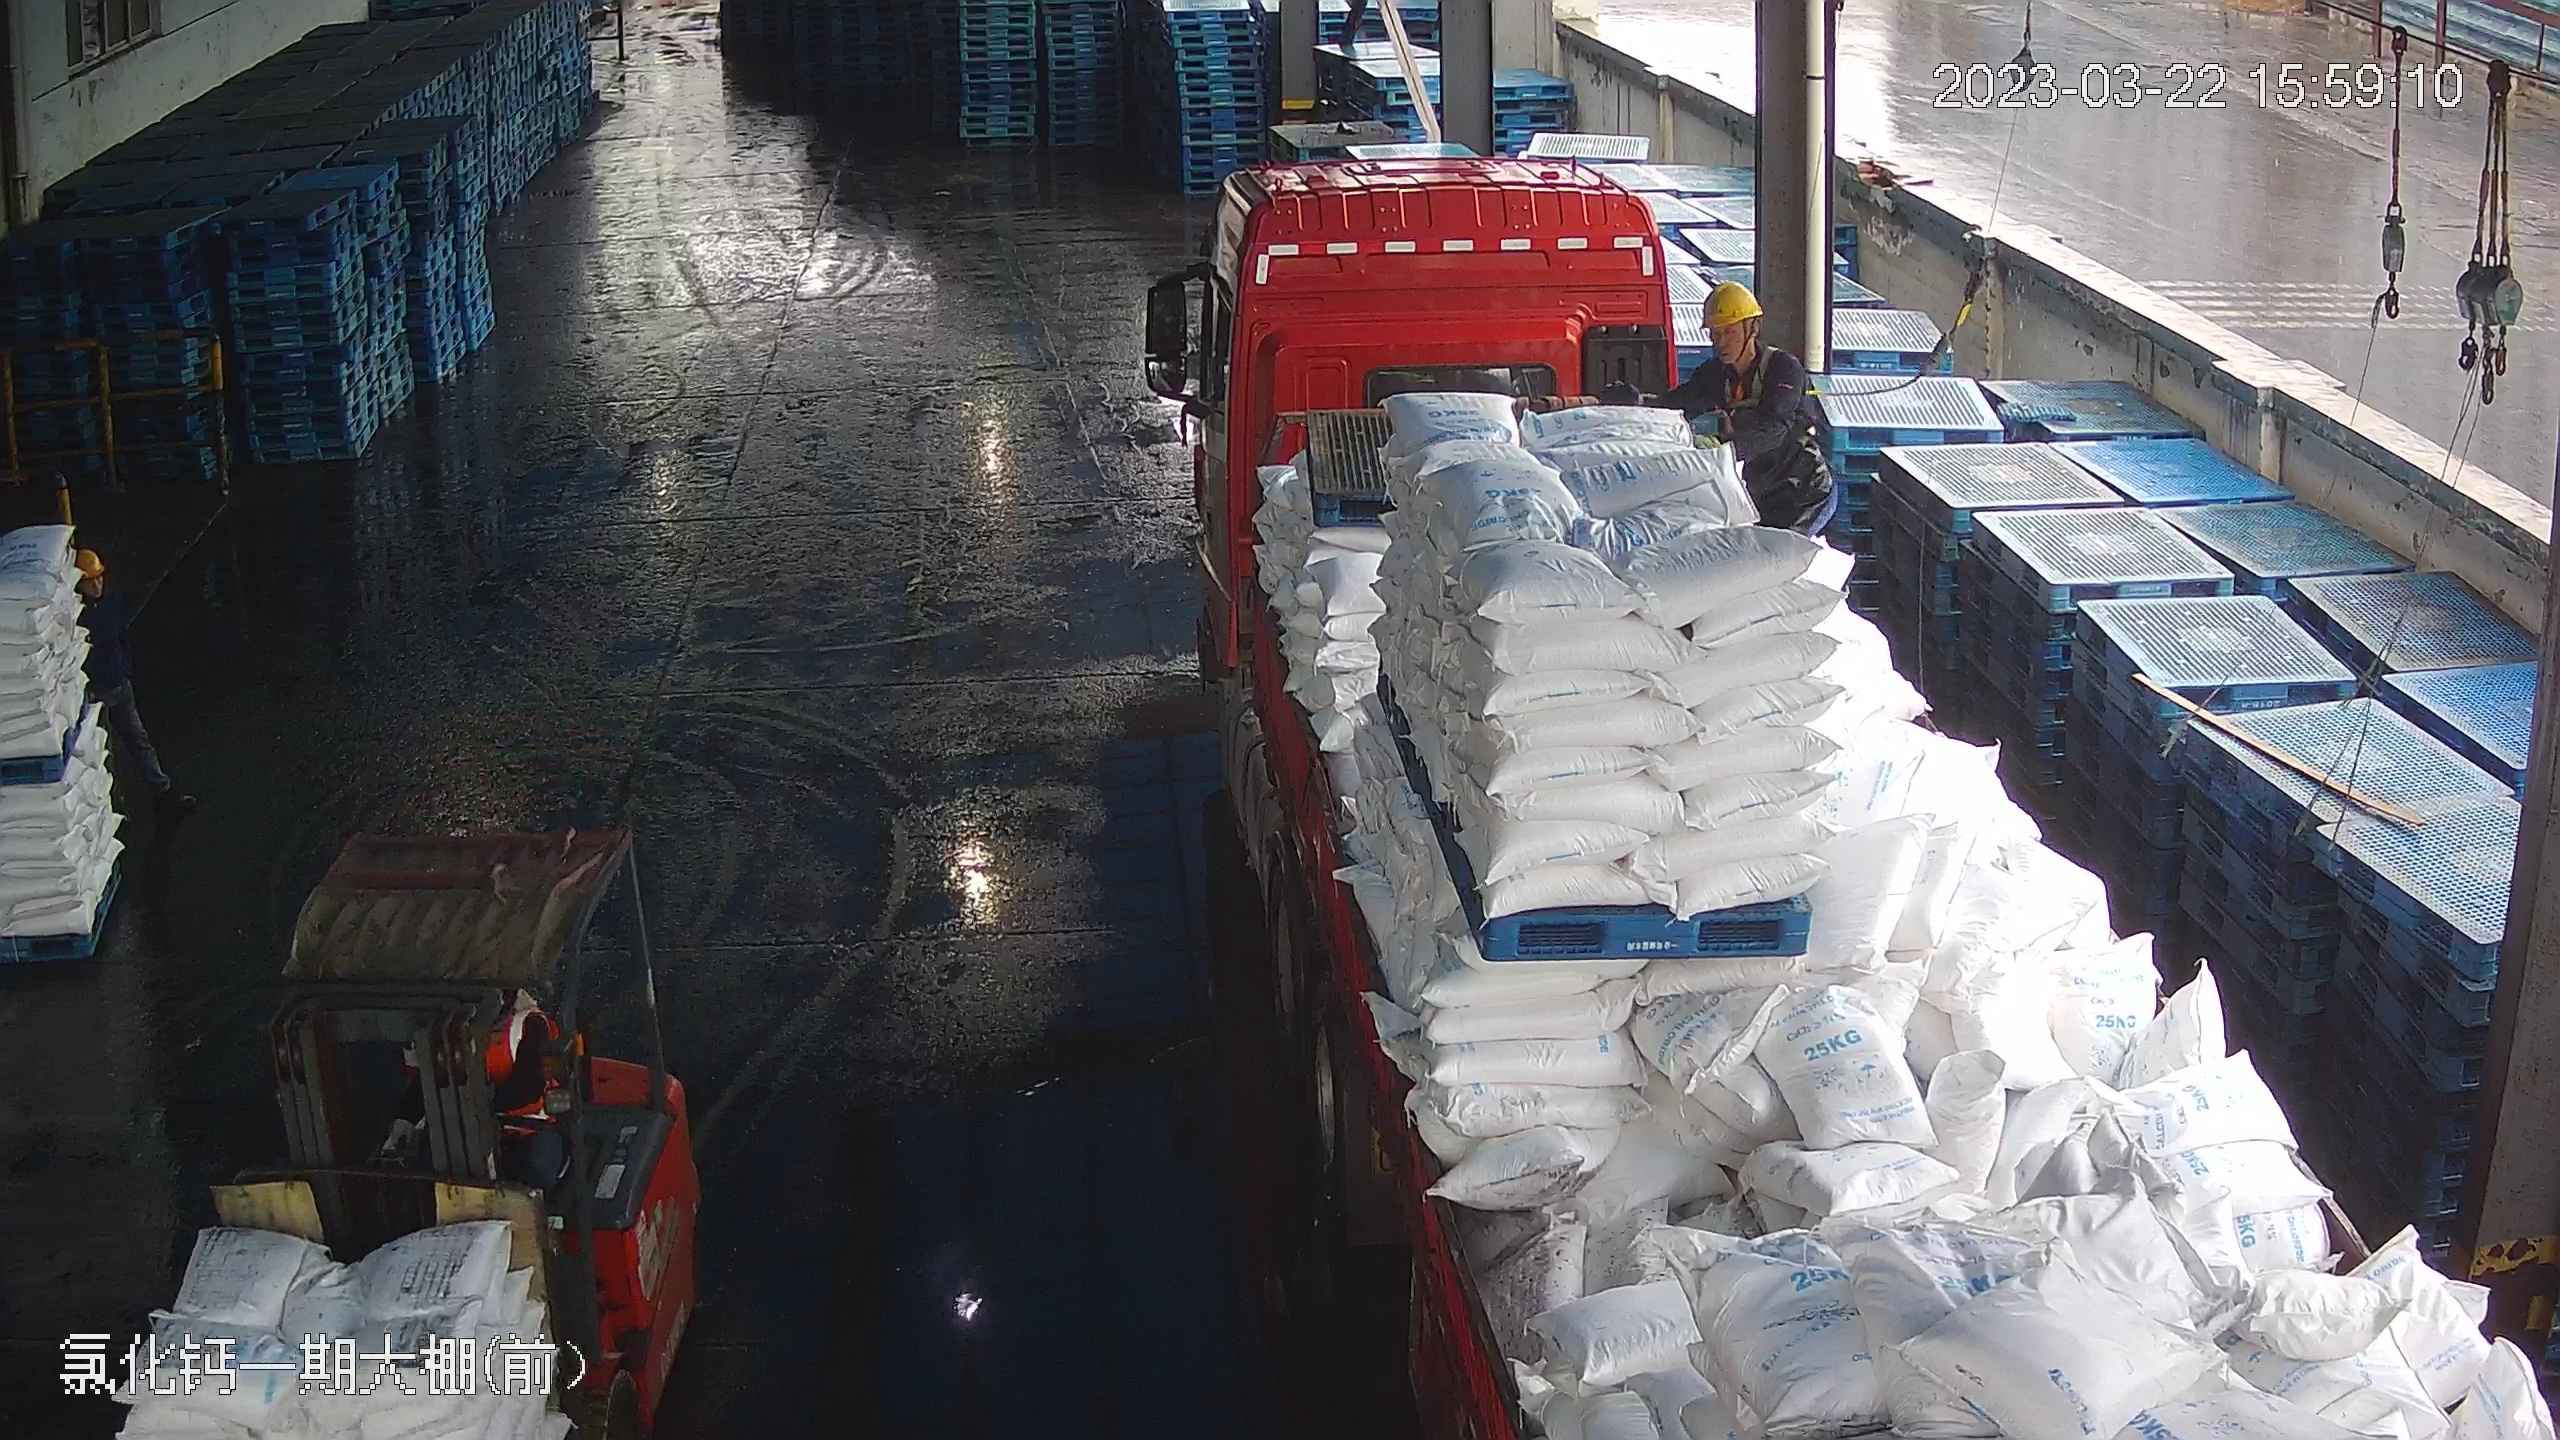belt: (1714, 337, 1795, 415)
head: (1689, 278, 1809, 394), (69, 544, 133, 637)
helmet: (1698, 278, 1763, 326), (70, 544, 107, 580)
people: (1672, 276, 1840, 539), (75, 547, 187, 815)
truck: (1160, 136, 2528, 1440)
